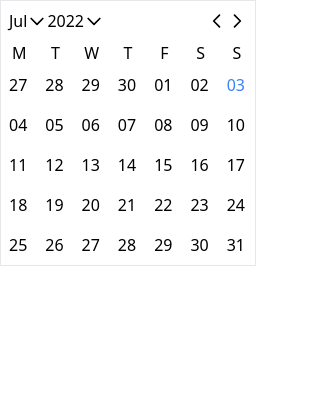
it: Calendar › highlights correct month in dropdown
Click the button with test id "monthDropdownTrigger": (28,21) [9, 9, 47, 33]
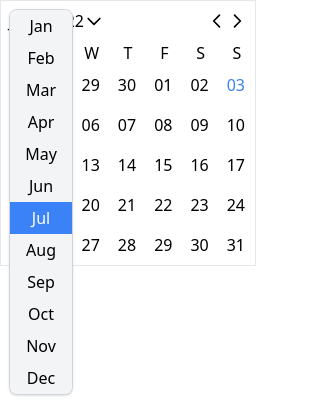
expect the option "Jul" is shown: met, box [10, 202, 72, 234]
